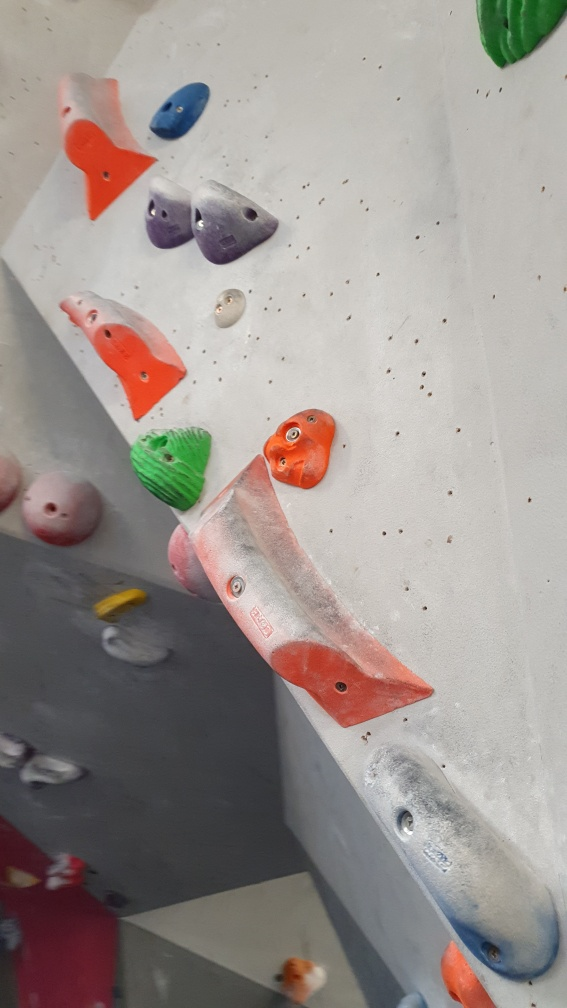Crimp: (148, 84, 212, 138)
Jug: (189, 177, 283, 266), (126, 421, 211, 510), (468, 2, 567, 72), (144, 176, 192, 250)
Pinch: (192, 452, 439, 734), (359, 737, 559, 981), (58, 286, 189, 424), (54, 71, 159, 225)
Sloper: (18, 466, 108, 548), (1, 444, 24, 512)
